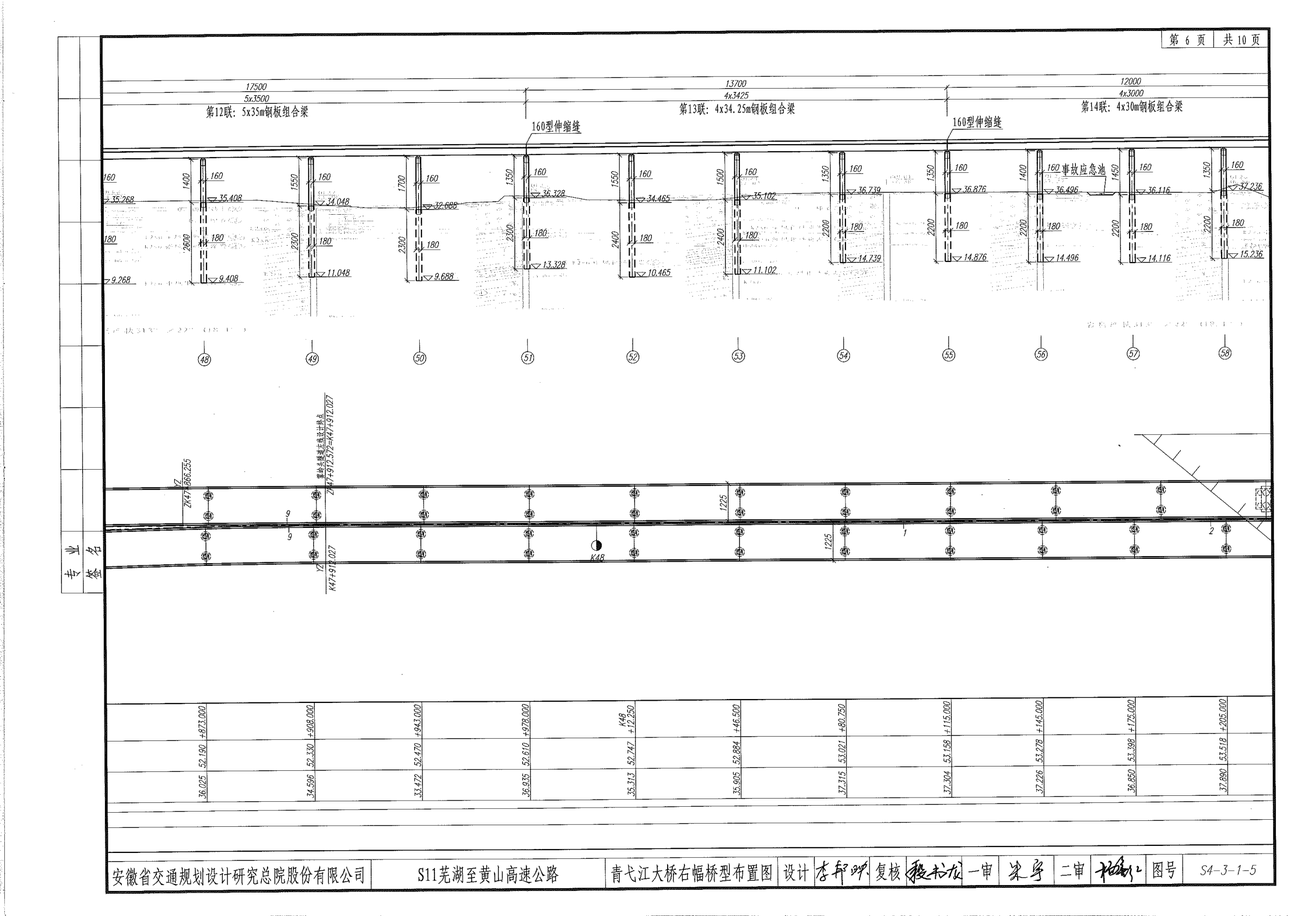A: (80, 48, 1283, 372)
